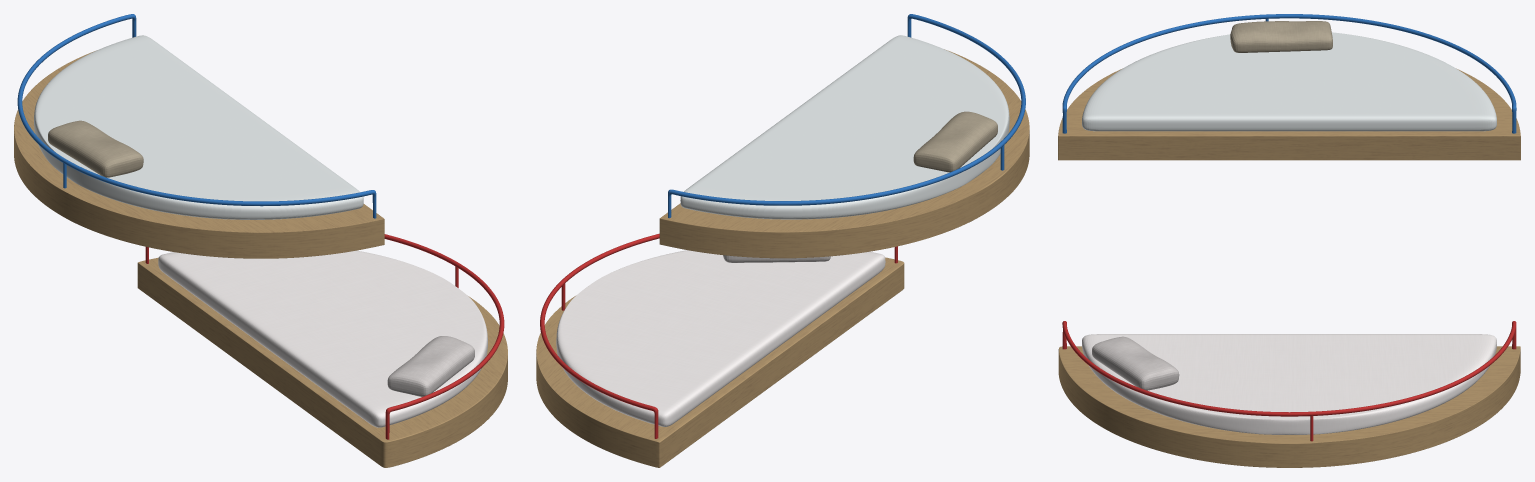
Rendered from bed.gltf.
3 renders of one model, left to right at view 1: azimuth 30°, elevation 25°; view 2: azimuth 150°, elevation 25°; view 3: azimuth 270°, elevation 25°, orthographic. The views are drawn at different scales.
Visible parts, largest first — view 1: colchon B, colchon A, Cama A, Cama B, tubo A, Almohada A, almodada B, Tubo B; view 2: colchon A, colchon B, Cama A, Cama B, tubo A, Almohada A, Tubo B, almodada B; view 3: colchon B, colchon A, Cama B, Cama A, Almohada A, Tubo B, tubo A, almodada B.
Part boxes in pixels (left/top/right/bottom): colchon B: left=34, top=35, right=363, bottom=219; colchon A: left=158, top=250, right=487, bottom=427; Cama A: left=14, top=51, right=384, bottom=258; Cama B: left=137, top=257, right=507, bottom=467; tubo A: left=17, top=14, right=376, bottom=218; Almohada A: left=48, top=120, right=143, bottom=177; almodada B: left=387, top=336, right=474, bottom=396; Tubo B: left=145, top=234, right=504, bottom=439; colchon A: left=556, top=250, right=885, bottom=426; colchon B: left=680, top=35, right=1009, bottom=219; Cama A: left=659, top=49, right=1029, bottom=258; Cama B: left=536, top=257, right=904, bottom=467; tubo A: left=668, top=14, right=1025, bottom=218; Almohada A: left=913, top=111, right=997, bottom=172; Tubo B: left=540, top=233, right=897, bottom=438; almodada B: left=723, top=255, right=830, bottom=262; colchon B: left=1082, top=32, right=1496, bottom=131; colchon A: left=1082, top=334, right=1496, bottom=434; Cama B: left=1058, top=346, right=1520, bottom=467; Cama A: left=1058, top=68, right=1520, bottom=160; Almohada A: left=1230, top=21, right=1332, bottom=52; Tubo B: left=1062, top=321, right=1516, bottom=441; tubo A: left=1062, top=14, right=1516, bottom=133; almodada B: left=1092, top=336, right=1179, bottom=390.
Bounding box in the file's own units: 29.02 × 18.51 × 29.06.
8 materials, 8 textured.
